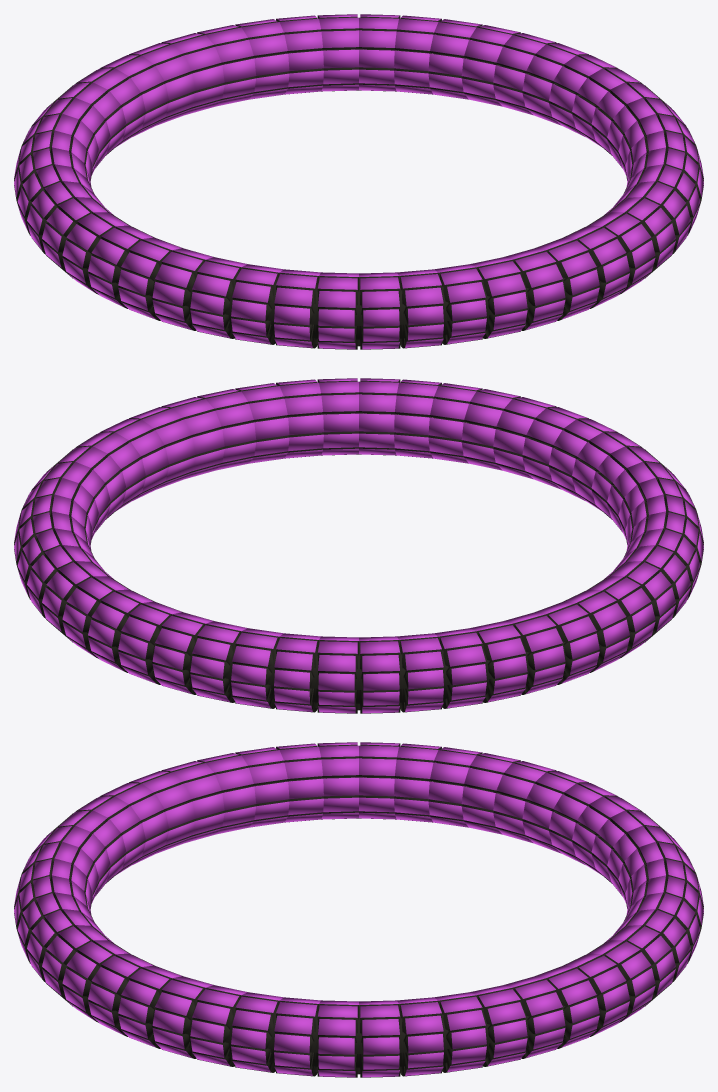
Rendered from portal.fbx.
3 renders of one model, top to bottom at view 1: azimuth 30°, elevation 25°; view 2: azimuth 150°, elevation 25°; view 3: azimuth 270°, elevation 25°, orthographic.
Visible parts, largest first — view 1: Torus_001; view 2: Torus_001; view 3: Torus_001.
Part boxes in pixels (x1=…): Torus_001: x1=14, y1=14, x2=703, y2=349; Torus_001: x1=14, y1=378, x2=703, y2=713; Torus_001: x1=14, y1=742, x2=703, y2=1077.
Size of the model in its own units: 2.25 by 0.2491 by 2.25.
